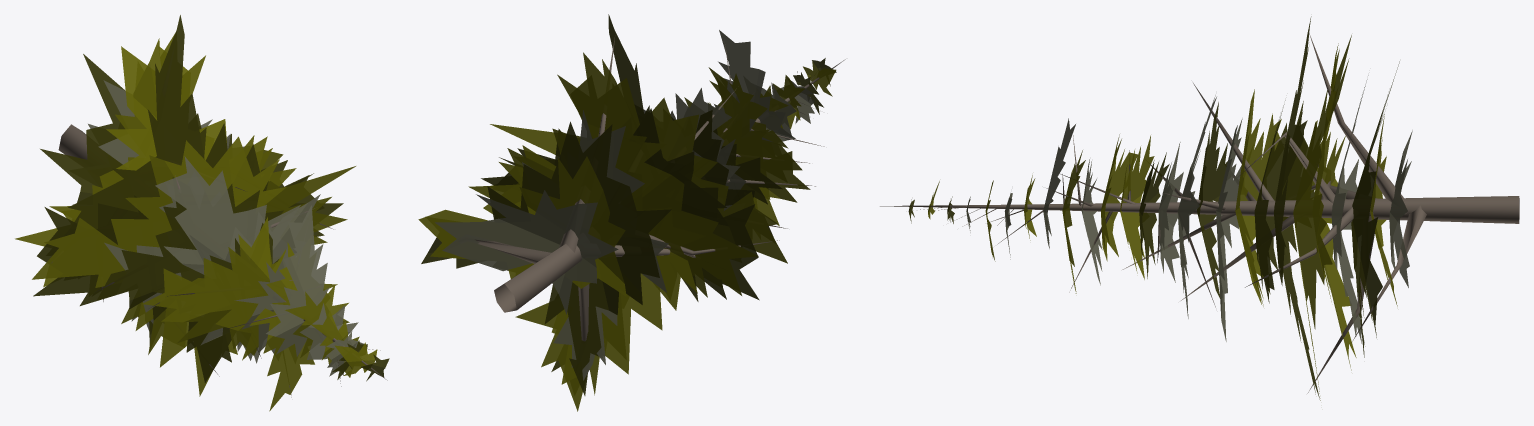
The model's file is Tree6.obj.
3 views of the same model, side by side, from view 1: azimuth 30°, elevation 25°; view 2: azimuth 150°, elevation 25°; view 3: azimuth 270°, elevation 25° (orthographic). The views are drawn at different scales.
Visible parts, largest first — view 1: group_28_ID905; view 2: group_28_ID905; view 3: group_28_ID905.
Part boxes in pixels (<box>): group_28_ID905: <box>15,15,389,411</box>; group_28_ID905: <box>418,14,845,411</box>; group_28_ID905: <box>880,16,1519,400</box>.
Size of the model in its own units: 8.33 by 9.83 by 14.85.
